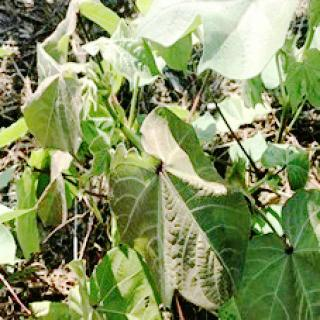curl: (102, 103, 250, 311), (23, 43, 85, 163)
